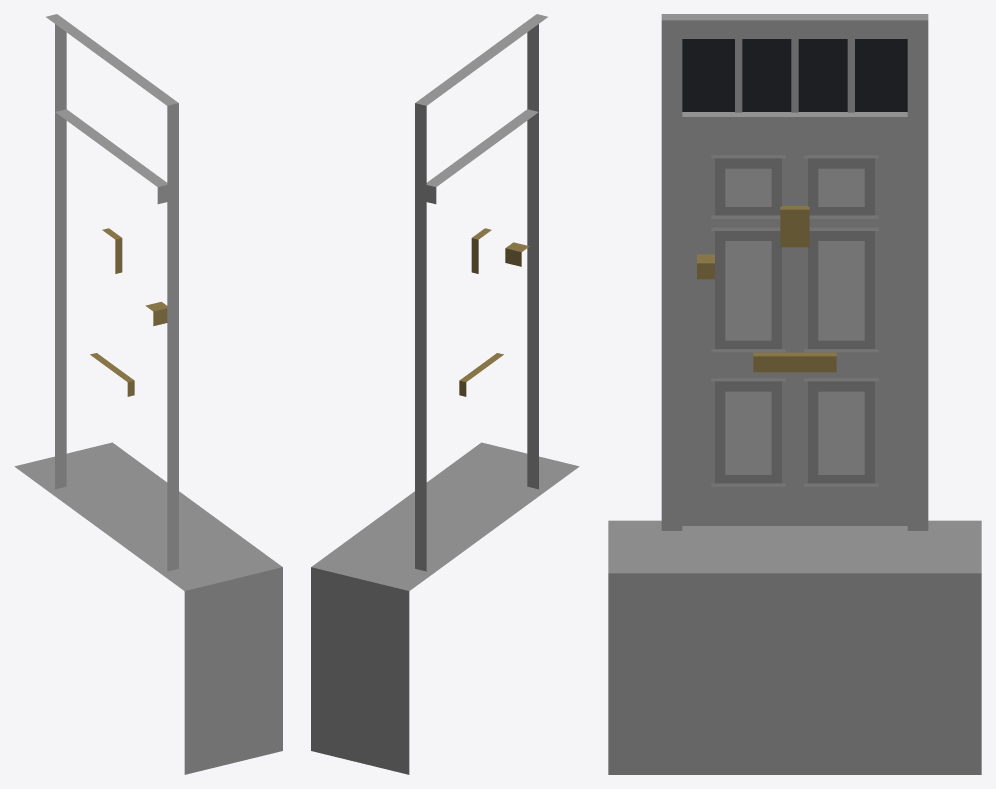
The model's file is SM_Prop_door_panel6_1.glb.
3 renders of one model, left to right at view 1: azimuth 30°, elevation 25°; view 2: azimuth 150°, elevation 25°; view 3: azimuth 270°, elevation 25°, orthographic. The views are drawn at different scales.
Visible parts, largest first — view 1: SM_Prop_door_panel6_1; view 2: SM_Prop_door_panel6_1; view 3: SM_Prop_door_panel6_1.
Part boxes in pixels (<box>): SM_Prop_door_panel6_1: <box>14,14,282,774</box>; SM_Prop_door_panel6_1: <box>311,14,579,774</box>; SM_Prop_door_panel6_1: <box>608,14,981,774</box>.
Size of the model in its own units: 0.42 by 2.65 by 1.26.
